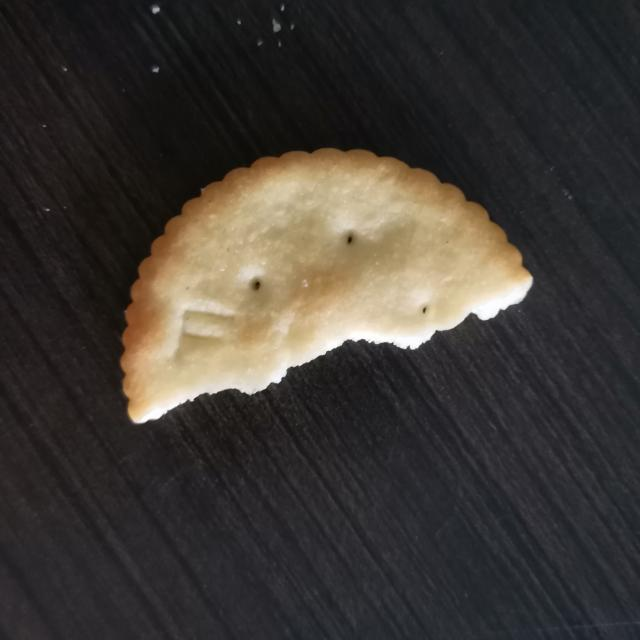Broken: (118, 145, 534, 424)
